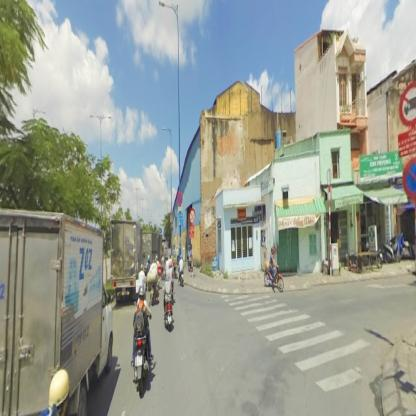Cam con lai: (398, 80, 416, 128), (189, 206, 195, 223)
Cam dung va do: (402, 157, 416, 201), (177, 190, 182, 205)
